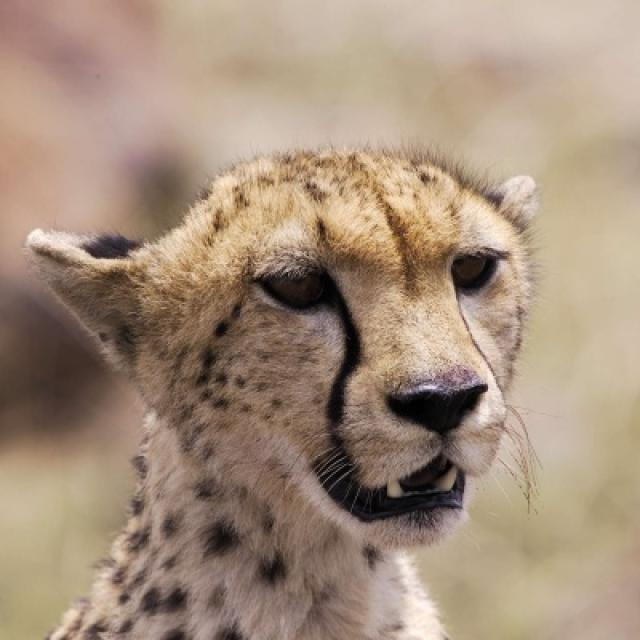Cheetah: (24, 146, 541, 638)
